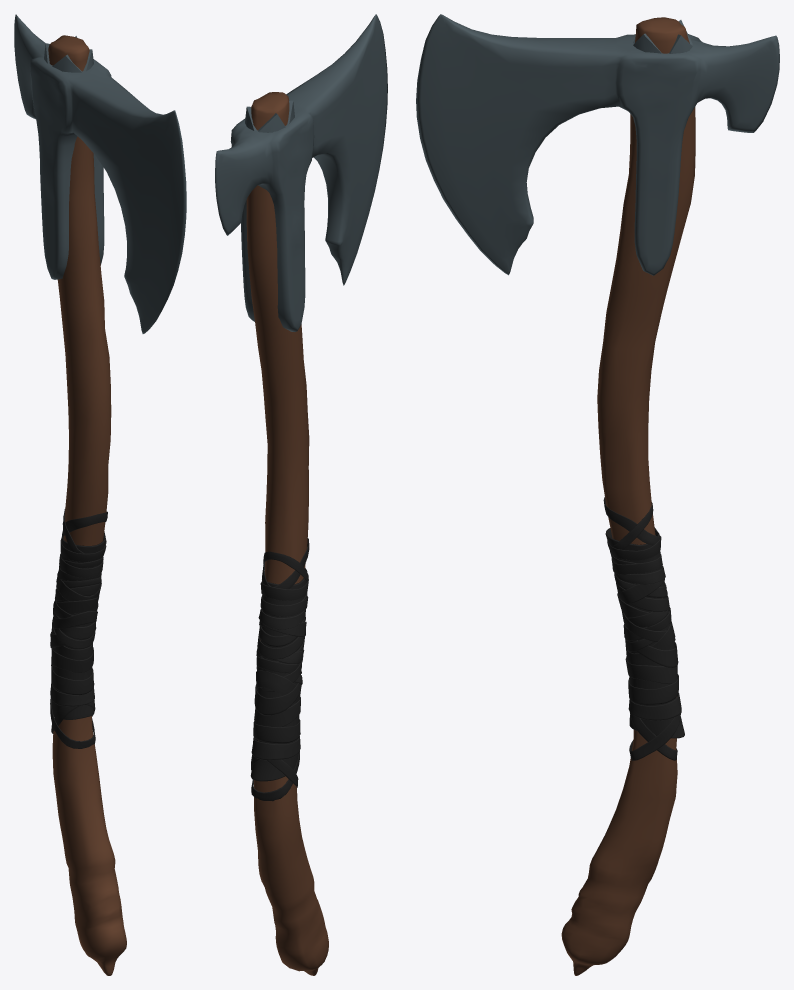
File: throw_axe .fbx
3 views of the same model, side by side, from view 1: azimuth 30°, elevation 25°; view 2: azimuth 150°, elevation 25°; view 3: azimuth 270°, elevation 25° (orthographic). The views are drawn at different scales.
Visible parts, largest first — view 1: axe; view 2: axe; view 3: axe.
Part boxes in pixels (x1,y1,x2,y2): axe: (14, 14, 186, 975); axe: (215, 14, 387, 975); axe: (416, 14, 779, 975).
Size of the model in its own units: 108 by 1871 by 642.
